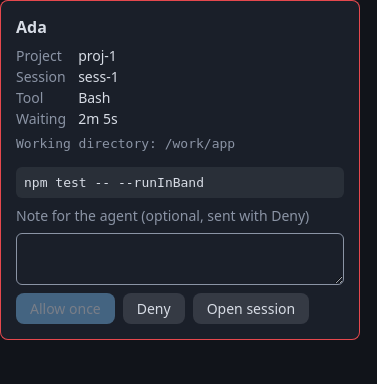
Test case: ActionCard: states › opener_failed shows a short message, never the server's text, and the card stays usable
This screenshot has width=377, height=384.
Click the button "Open session". click: [251, 308]
box: [193, 293, 309, 324]
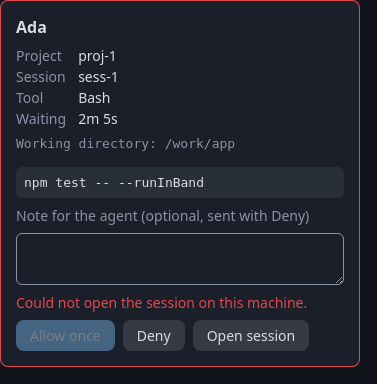
Expected: the button "Deny" is enabled, [123, 320, 185, 351]
Now the element with test id "action-card" shows "could not open", box [16, 293, 307, 312]
